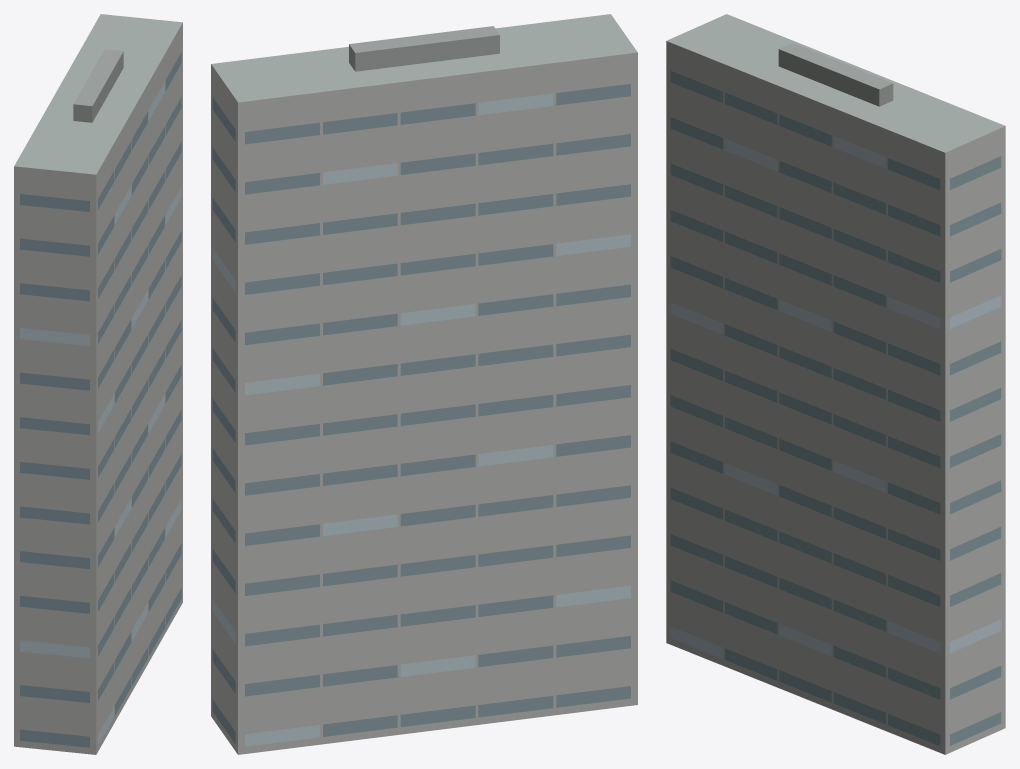
File: fallback-jamsil-ricenz-235.glb
3 renders of one model, left to right at view 1: azimuth 30°, elevation 25°; view 2: azimuth 150°, elevation 25°; view 3: azimuth 270°, elevation 25°, orthographic. The views are drawn at different scales.
Visible parts, largest first — view 1: fallback-jamsil-ricenz-235; view 2: fallback-jamsil-ricenz-235; view 3: fallback-jamsil-ricenz-235.
Part boxes in pixels (x1=…): fallback-jamsil-ricenz-235: x1=14, y1=14, x2=182, y2=754; fallback-jamsil-ricenz-235: x1=211, y1=14, x2=637, y2=754; fallback-jamsil-ricenz-235: x1=666, y1=14, x2=1005, y2=754.
Bounding box in the file's own units: 41.34 × 86 × 42.71.
